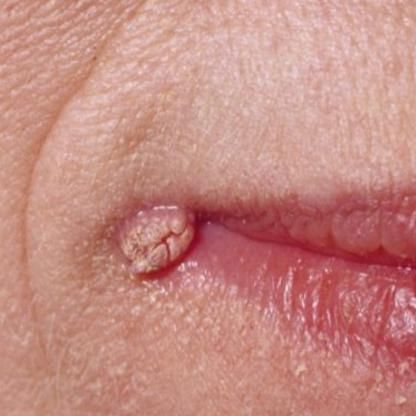Warts: (108, 185, 215, 293)
